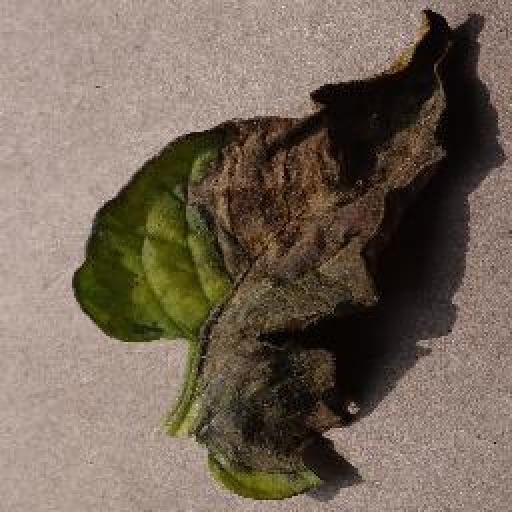disease_tomato: (68, 6, 455, 506)
